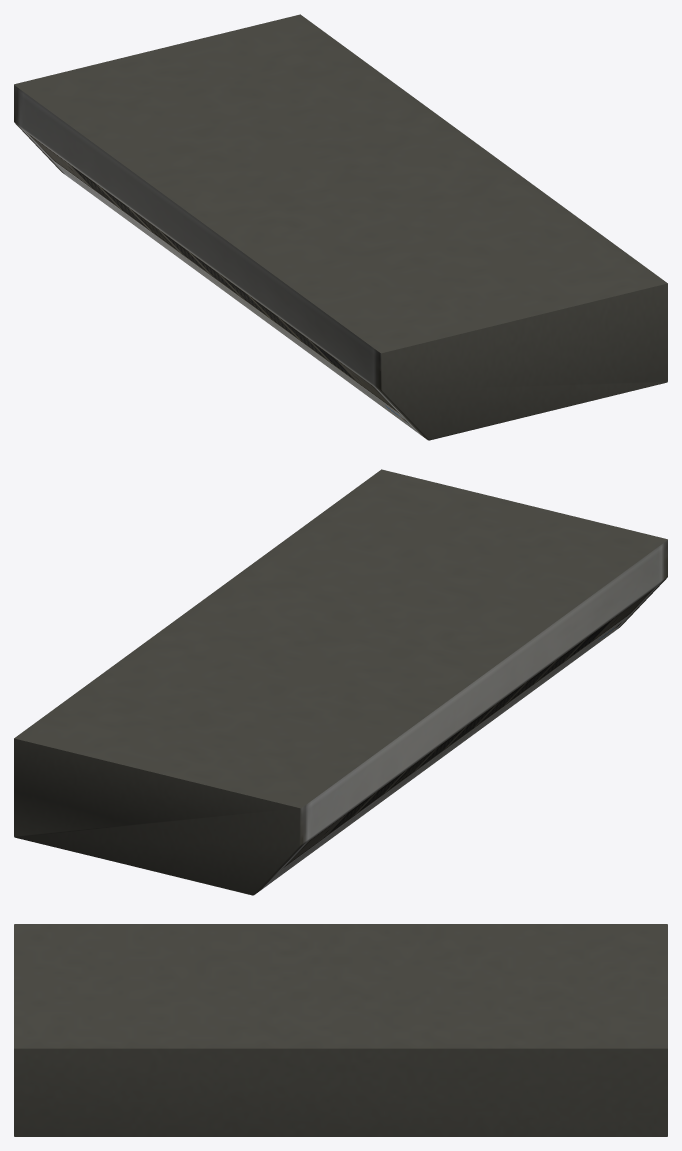
The model's file is AirConditioner.fbx.
3 views of the same model, one above another, from view 1: azimuth 30°, elevation 25°; view 2: azimuth 150°, elevation 25°; view 3: azimuth 270°, elevation 25° (orthographic). The views are drawn at different scales.
Visible parts, largest first — view 1: pCube1; view 2: pCube1; view 3: pCube1.
Boxes of the visible parts, x1,y1,x2,y2 form: pCube1: (14,14,667,440); pCube1: (14,469,667,895); pCube1: (14,924,667,1136).
Bounding box in the file's own units: 60.98 × 20.22 × 135.
